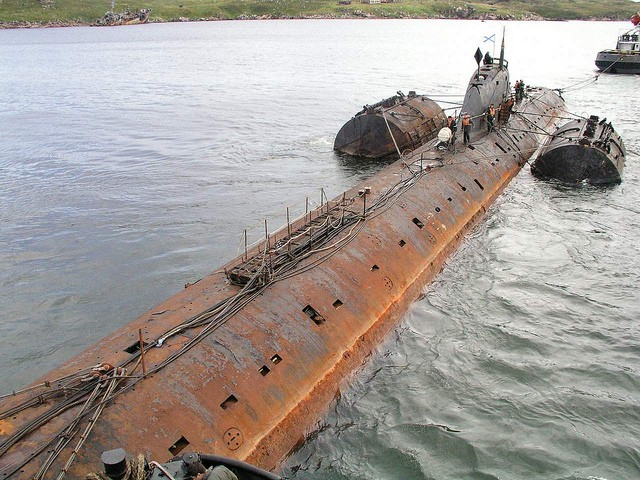rust: (255, 322, 335, 458), (350, 257, 412, 335), (438, 198, 481, 271), (200, 394, 240, 445)
